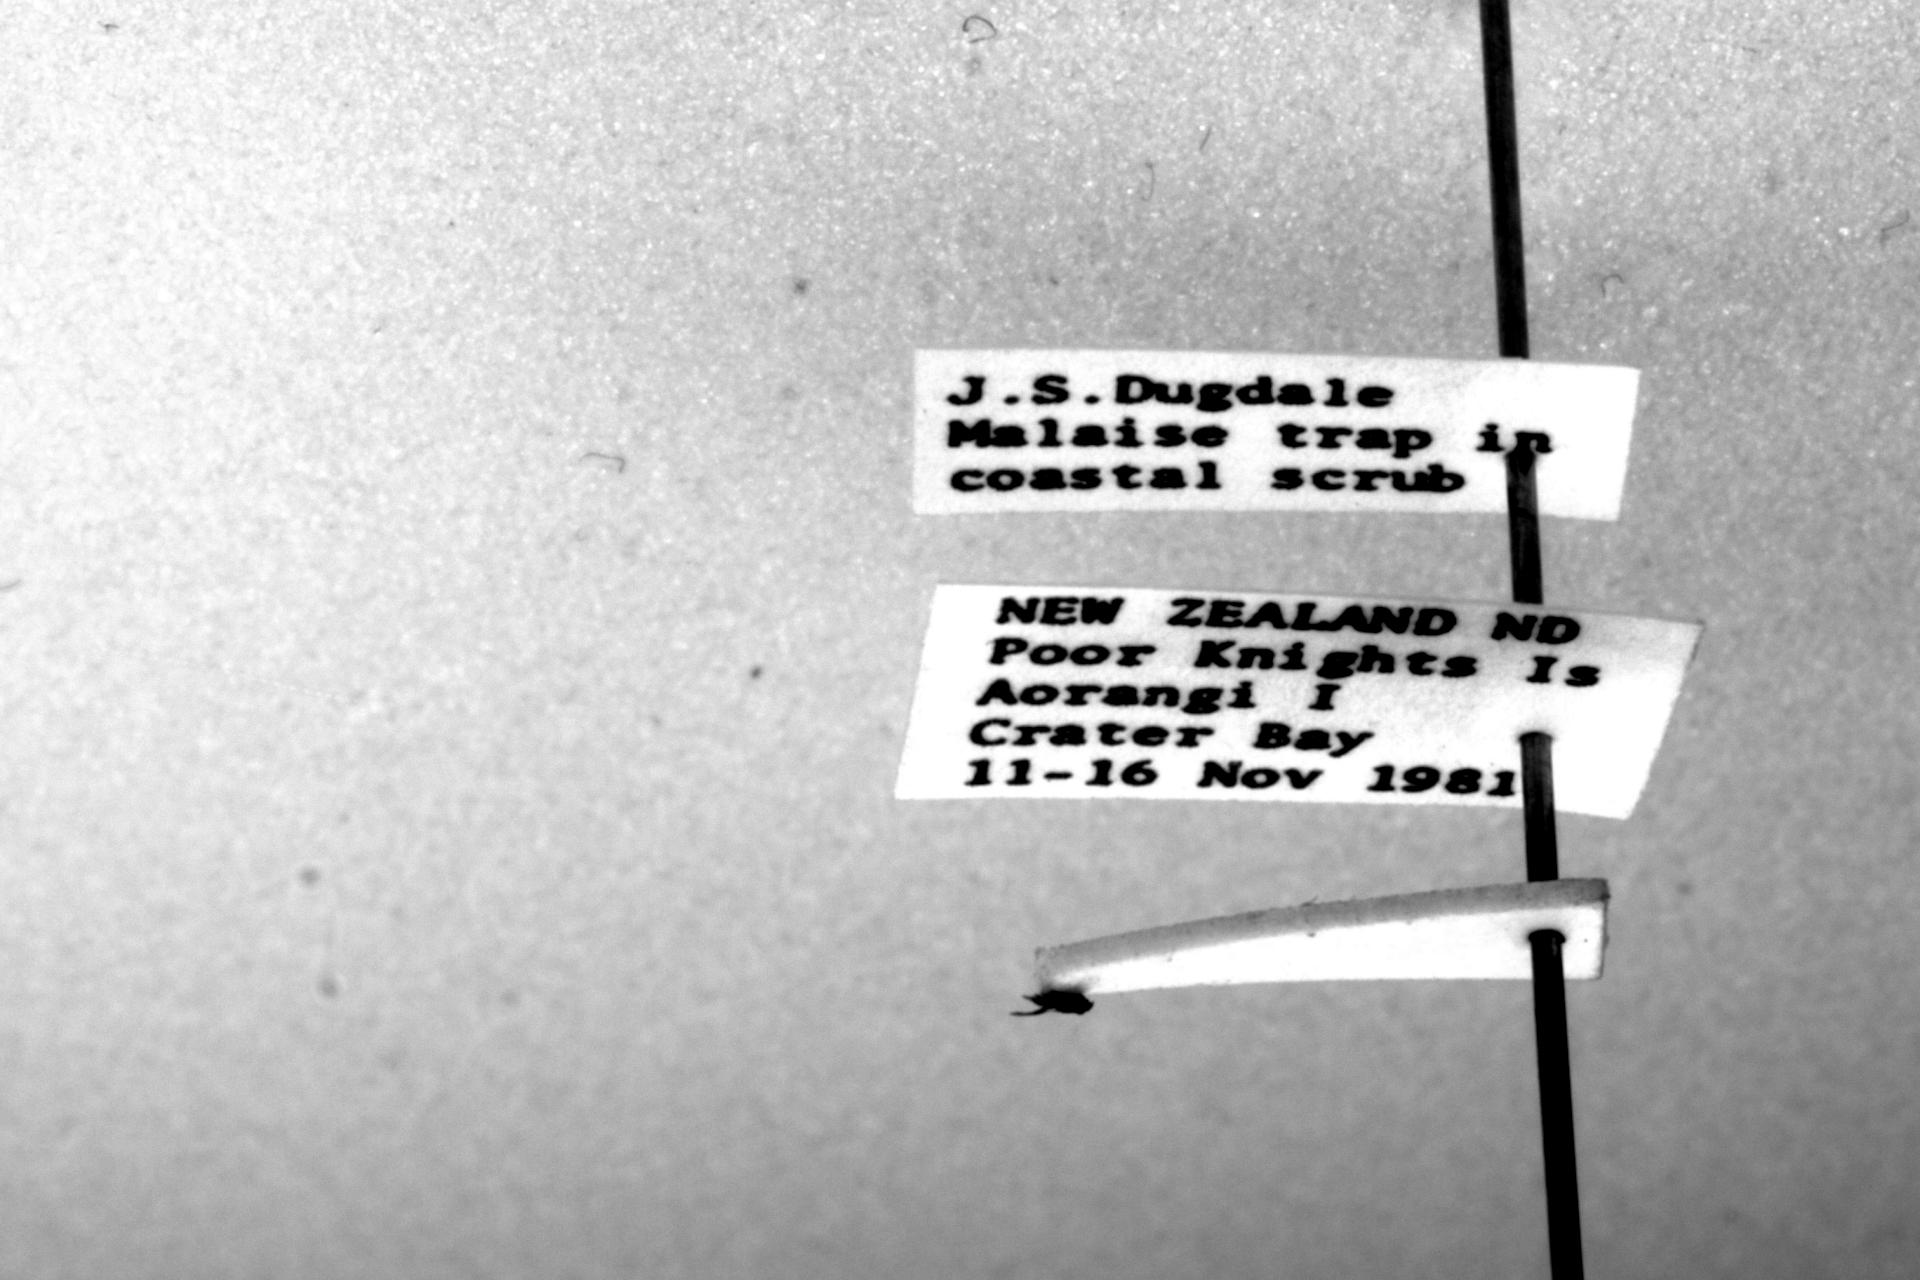typed_label: (896, 586, 1699, 817), (911, 349, 1639, 521)
